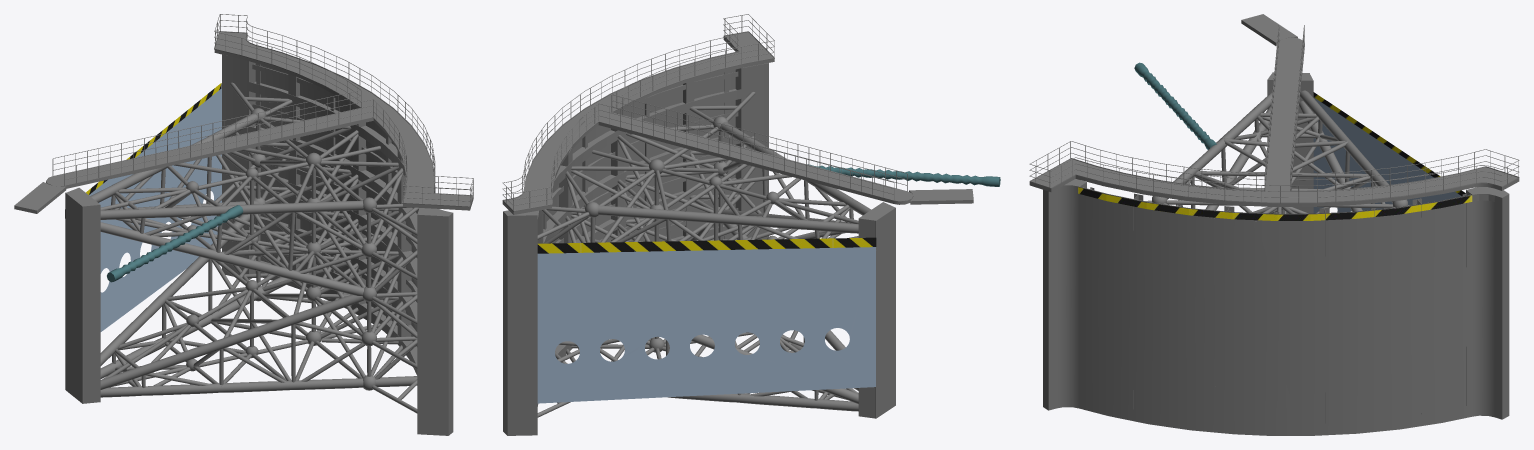
File: 外闸门.fbx
The picture shows the model from 3 angles, left to right: view 1: azimuth 30°, elevation 25°; view 2: azimuth 150°, elevation 25°; view 3: azimuth 270°, elevation 25°; orthographic projection.
Parts seen in each view (by area): view 1: 轻型钢, 钢，软，焊接, 水磨石, Line001, 钢，高强度，低合金, Railing005, Railing002, Hose001, Railing003, line, Line002; view 2: Line001, 钢，软，焊接, 轻型钢, 水磨石, 钢，高强度，低合金, Line002, Railing005, Railing002, Railing003, Hose001, line; view 3: 钢，软，焊接, 水磨石, 轻型钢, Railing005, Line001, 图形001, line, 钢，高强度，低合金, Hose001, Line002.
Boxes of the visible parts, x1,y1,x2,y2 form: 轻型钢: [90, 82, 418, 413]; 钢，软，焊接: [186, 54, 453, 435]; 水磨石: [14, 32, 473, 213]; Line001: [89, 88, 221, 331]; 钢，高强度，低合金: [65, 187, 100, 403]; Railing005: [214, 14, 473, 205]; Railing002: [64, 99, 373, 185]; Hose001: [107, 205, 243, 282]; Railing003: [52, 90, 361, 175]; line: [214, 31, 473, 207]; Line002: [65, 83, 221, 218]; Line001: [537, 247, 875, 403]; 钢，软，焊接: [503, 63, 779, 435]; 轻型钢: [537, 92, 871, 417]; 水磨石: [502, 32, 973, 214]; 钢，高强度，低合金: [858, 202, 895, 418]; Line002: [537, 237, 876, 253]; Railing005: [502, 14, 774, 210]; Railing002: [611, 94, 907, 191]; Railing003: [598, 103, 894, 199]; Hose001: [807, 164, 1000, 186]; line: [502, 31, 774, 211]; 钢，软，焊接: [1043, 179, 1509, 435]; 水磨石: [1029, 14, 1519, 206]; 轻型钢: [1144, 90, 1409, 213]; Railing005: [1029, 141, 1519, 203]; Line001: [1313, 97, 1461, 213]; 图形001: [1078, 187, 1472, 220]; line: [1029, 158, 1519, 203]; 钢，高强度，低合金: [1267, 72, 1313, 213]; Hose001: [1134, 62, 1216, 149]; Line002: [1313, 92, 1465, 196].
Size of the model in its own units: 17244 by 10621 by 18821.
